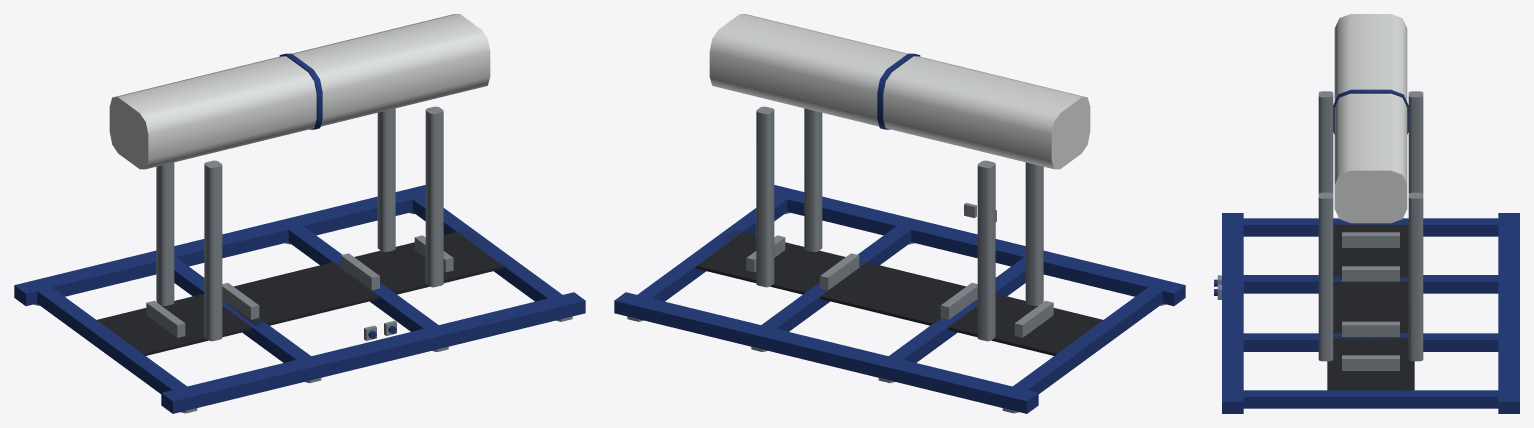
File: l200_frame.obj
The picture shows the model from 3 angles, left to right: view 1: azimuth 30°, elevation 25°; view 2: azimuth 150°, elevation 25°; view 3: azimuth 270°, elevation 25°; orthographic projection. The views are drawn at different scales.
Visible parts, largest first — view 1: l200_frame; view 2: l200_frame; view 3: l200_frame.
Boxes of the visible parts, <box> form: l200_frame: <box>14,14,585,413</box>; l200_frame: <box>614,14,1185,413</box>; l200_frame: <box>1214,14,1519,413</box>.
Bounding box in the file's own units: 6.16 × 3.51 × 4.21.
